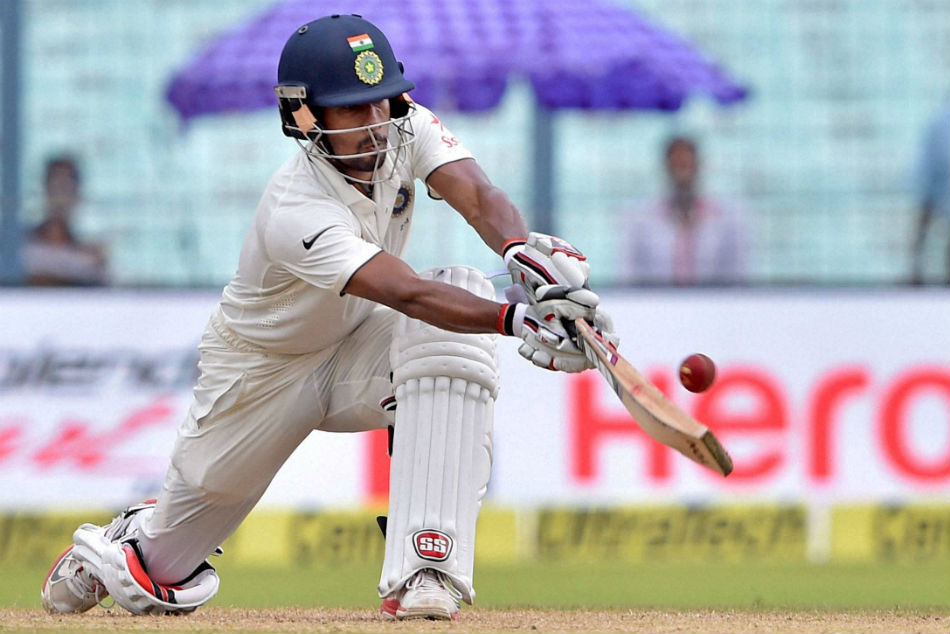Sweepshot: (33, 0, 886, 634)
